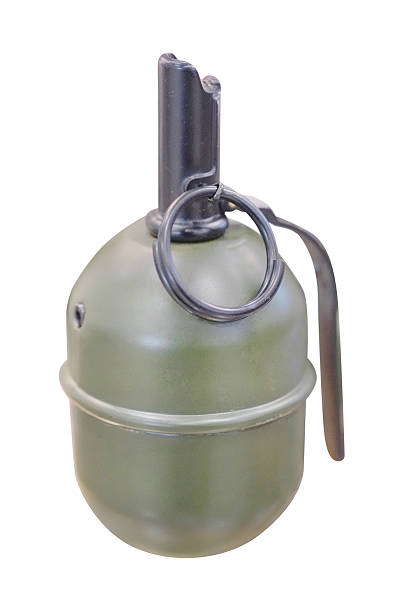e1: (61, 54, 347, 563)
